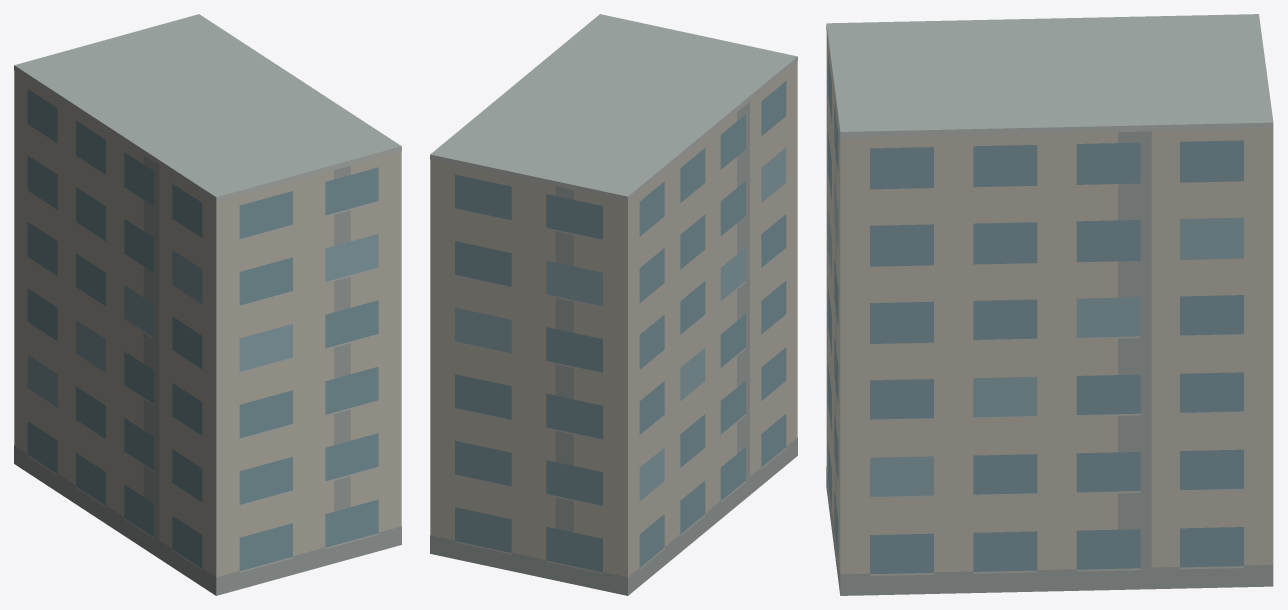
The model's file is survey-upis-32709078.glb.
3 renders of one model, left to right at view 1: azimuth 30°, elevation 25°; view 2: azimuth 150°, elevation 25°; view 3: azimuth 270°, elevation 25°, orthographic. The views are drawn at different scales.
Parts seen in each view (by area): view 1: survey-upis-32709078.tmp; view 2: survey-upis-32709078.tmp; view 3: survey-upis-32709078.tmp.
Part boxes in pixels (x1,y1,x2,y2): survey-upis-32709078.tmp: [14, 14, 401, 595]; survey-upis-32709078.tmp: [430, 14, 797, 595]; survey-upis-32709078.tmp: [826, 14, 1273, 595].
Size of the model in its own units: 9.99 by 18.3 by 15.99.
